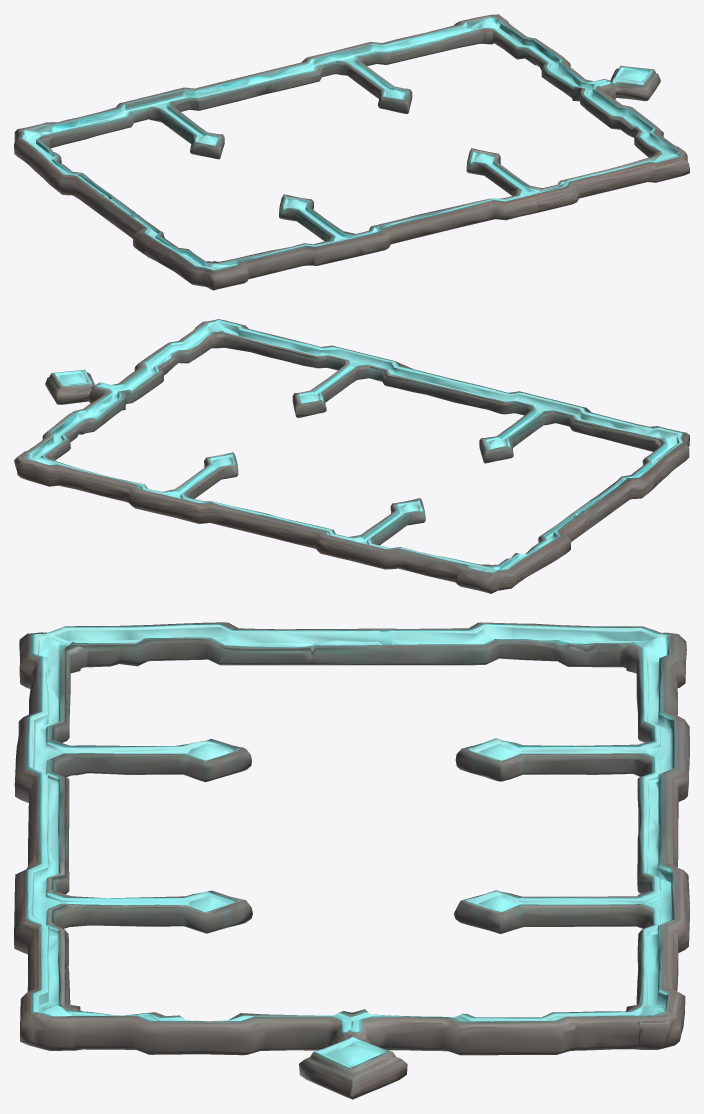
Rendered from futuristic_portal_frame.glb.
3 renders of one model, top to bottom at view 1: azimuth 30°, elevation 25°; view 2: azimuth 150°, elevation 25°; view 3: azimuth 270°, elevation 25°, orthographic. The views are drawn at different scales.
Visible parts, largest first — view 1: tripo_node_de5fba5f-c8d9-4045-bede-40a609f2afca; view 2: tripo_node_de5fba5f-c8d9-4045-bede-40a609f2afca; view 3: tripo_node_de5fba5f-c8d9-4045-bede-40a609f2afca.
Part boxes in pixels (bbox=[...]): tripo_node_de5fba5f-c8d9-4045-bede-40a609f2afca: bbox=[14, 14, 689, 290]; tripo_node_de5fba5f-c8d9-4045-bede-40a609f2afca: bbox=[14, 319, 689, 593]; tripo_node_de5fba5f-c8d9-4045-bede-40a609f2afca: bbox=[14, 622, 689, 1099].
Size of the model in its own units: 0.9803 by 0.0376 by 0.614.
1 material, 1 textured.
